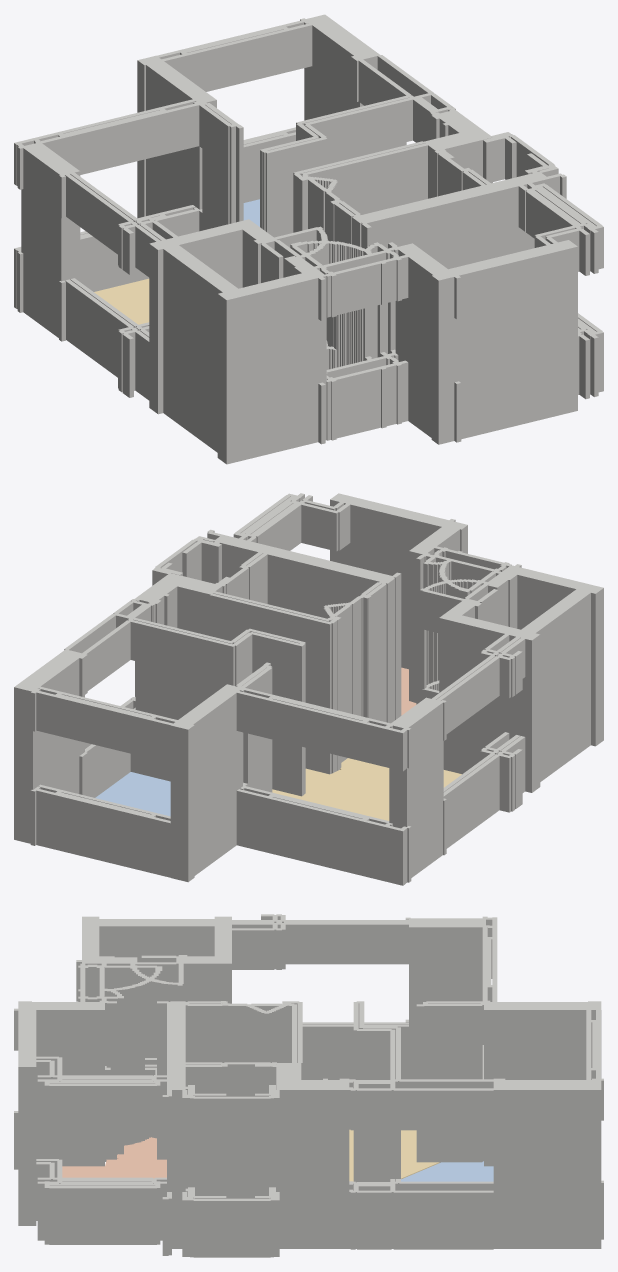
The picture shows the model from 3 angles, top to bottom: view 1: azimuth 30°, elevation 25°; view 2: azimuth 150°, elevation 25°; view 3: azimuth 270°, elevation 25°; orthographic projection. The views are drawn at different scales.
Visible parts, largest first — view 1: walls, room:living:0; view 2: walls, room:living:0, room:bedroom:1; view 3: walls, room:kitchen:6, room:bedroom:1, room:living:0.
Part boxes in pixels (box(x1,y1,x2,y2)): walls: box(14, 14, 603, 464); room:living:0: box(94, 278, 149, 324); walls: box(14, 493, 603, 885); room:living:0: box(272, 758, 461, 820); room:bedroom:1: box(95, 772, 170, 816); walls: box(14, 914, 603, 1257); room:kitchen:6: box(62, 1137, 166, 1178); room:bedroom:1: box(401, 1161, 493, 1181); room:living:0: box(349, 1129, 439, 1181).
Size of the model in its own units: 6.96 by 2.8 by 9.42.
